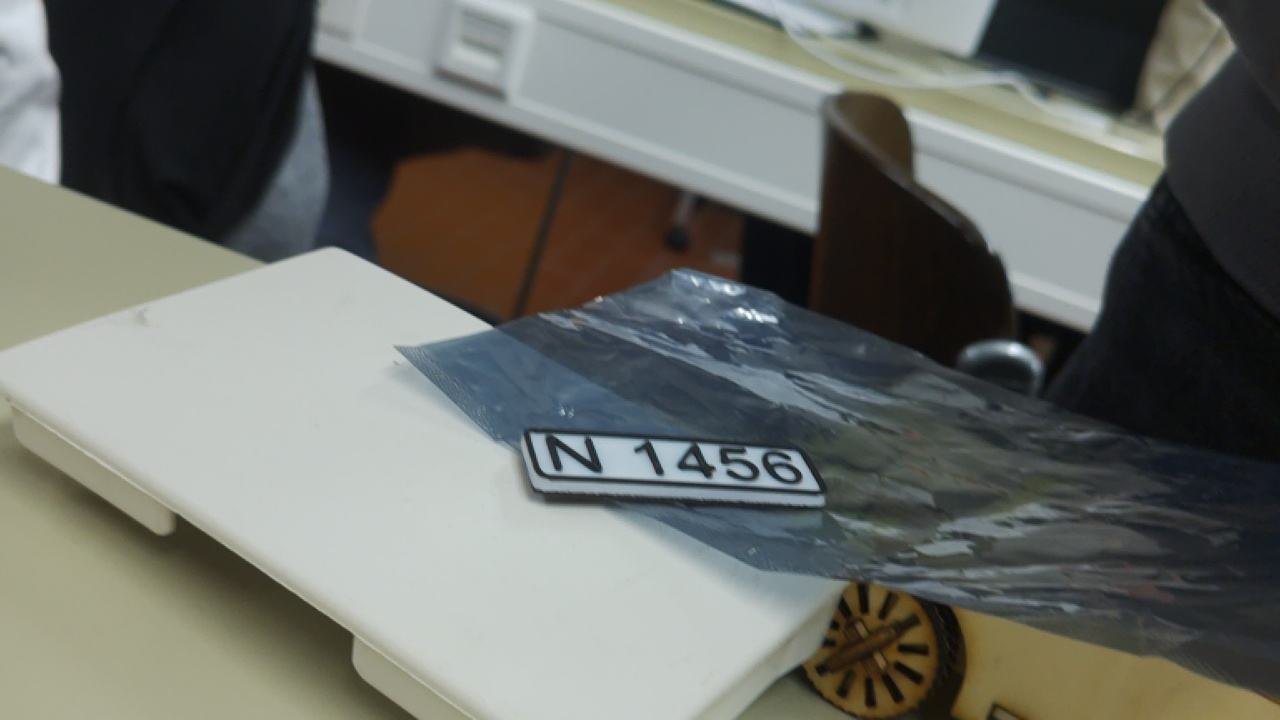license_plate: (497, 413, 835, 521)
